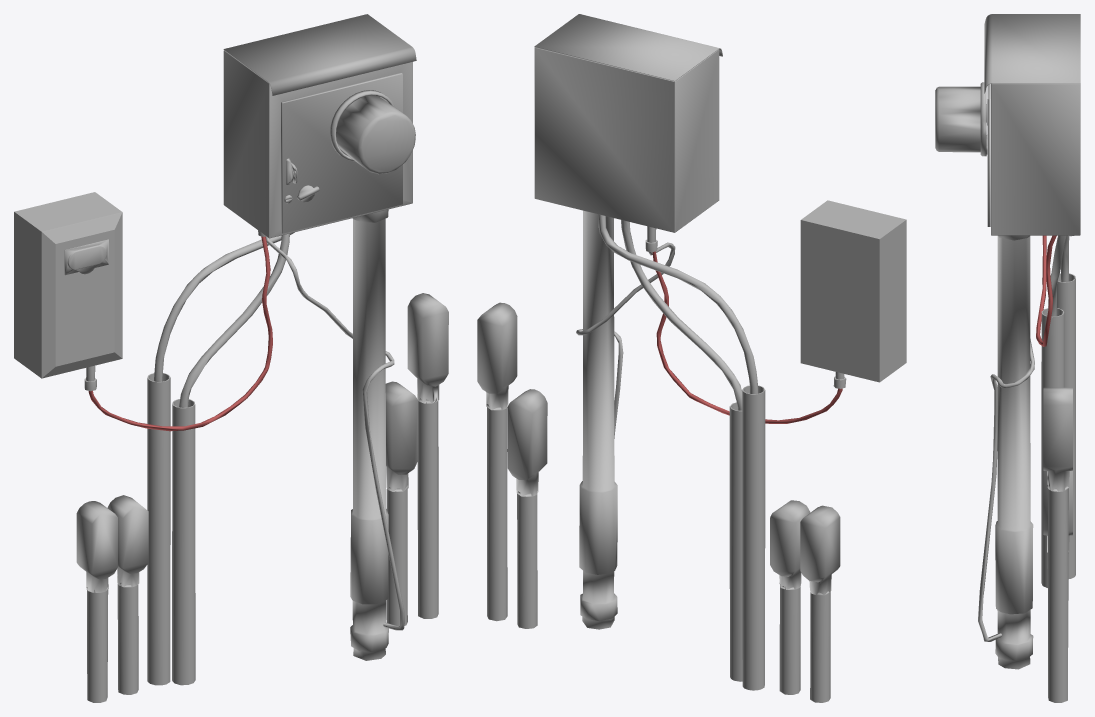
Rendered from ElectricalBox.fbx.
The picture shows the model from 3 angles, left to right: view 1: azimuth 30°, elevation 25°; view 2: azimuth 150°, elevation 25°; view 3: azimuth 270°, elevation 25°; orthographic projection. The views are drawn at different scales.
Visible parts, largest first — view 1: Bigl_Box, Meter Glass; view 2: Bigl_Box; view 3: Bigl_Box, Meter Glass.
Part boxes in pixels (bbox=[...]): Bigl_Box: bbox=[14, 14, 448, 702]; Meter Glass: bbox=[336, 95, 415, 174]; Bigl_Box: bbox=[477, 14, 906, 702]; Bigl_Box: bbox=[978, 14, 1080, 702]; Meter Glass: bbox=[935, 86, 980, 152].
Size of the model in its own units: 104 by 145 by 32.06.
